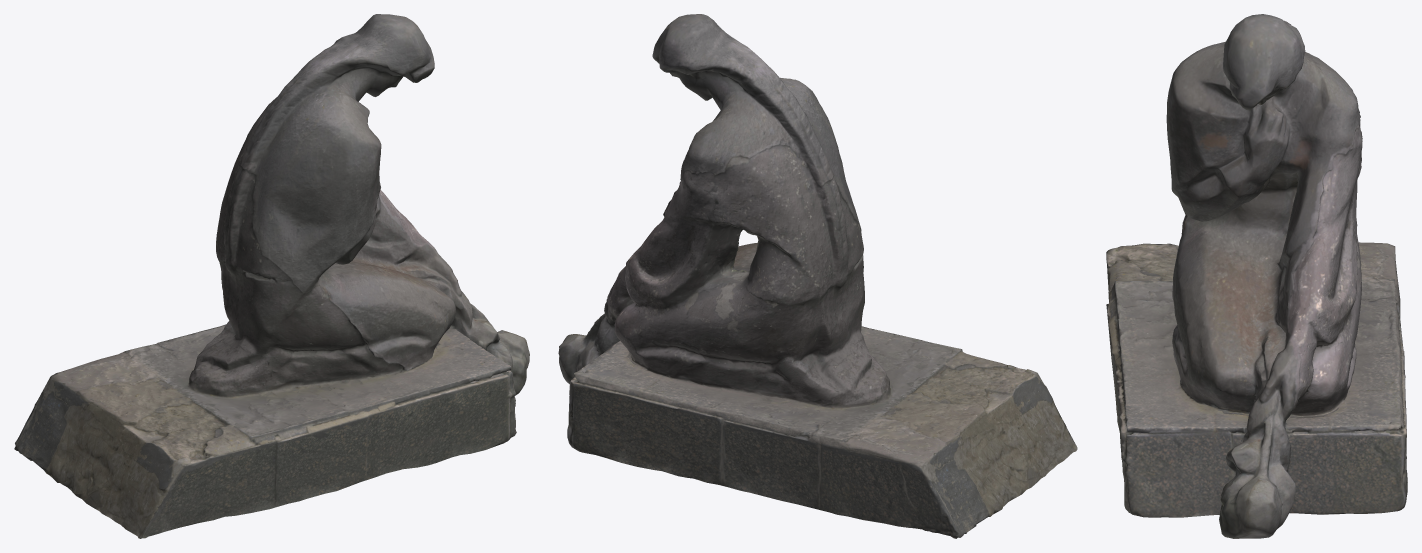
File: statue.glb
3 renders of one model, left to right at view 1: azimuth 30°, elevation 25°; view 2: azimuth 150°, elevation 25°; view 3: azimuth 270°, elevation 25°, orthographic. The views are drawn at different scales.
Visible parts, largest first — view 1: statuya_lp.001_statuya_lp.004; view 2: statuya_lp.001_statuya_lp.004; view 3: statuya_lp.001_statuya_lp.004.
Boxes of the visible parts, <box> form: statuya_lp.001_statuya_lp.004: <box>14,14,529,538</box>; statuya_lp.001_statuya_lp.004: <box>558,14,1077,538</box>; statuya_lp.001_statuya_lp.004: <box>1106,14,1407,538</box>.
Bounding box in the file's own units: 35.3 × 29.87 × 17.62.
Materials: 1 (1 with a texture image).
